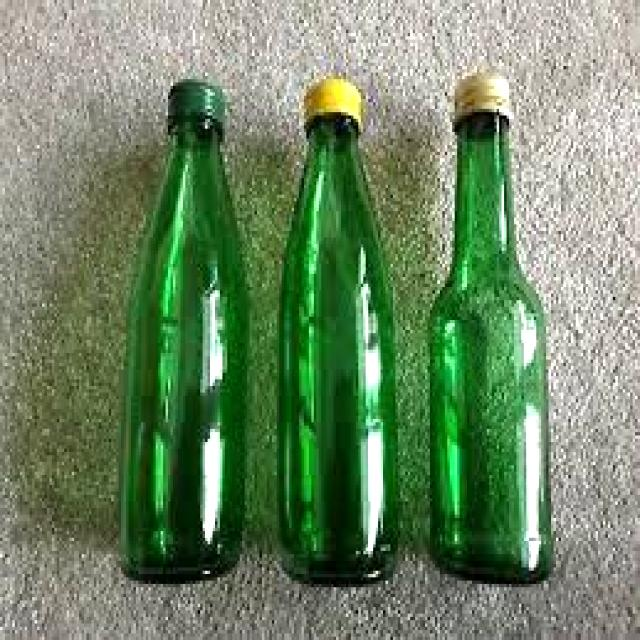Glass: (111, 74, 255, 585), (421, 58, 558, 587), (270, 69, 404, 590)
